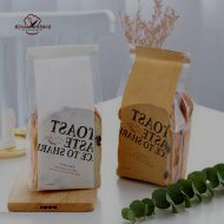snack: (17, 39, 110, 196), (112, 39, 200, 190)
